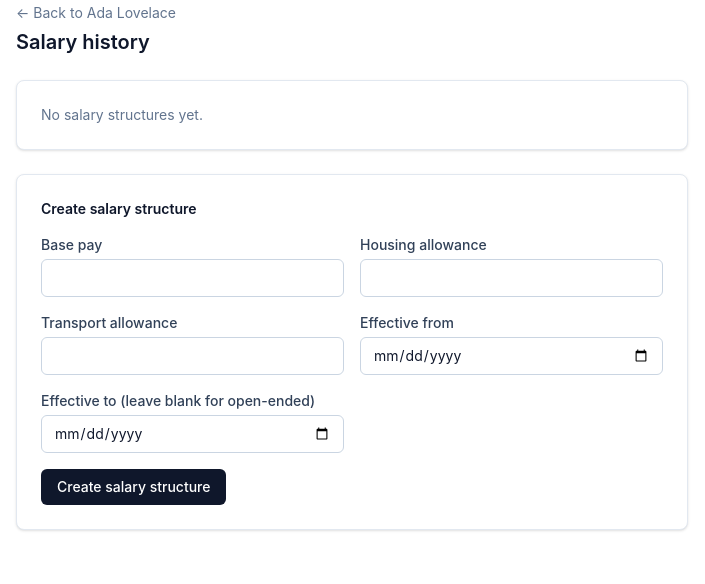
Scenario: SalaryHistoryPage (HR_ADMIN) › shows a 400 validation error returned by the API
Check: the text "No salary structures yet." is shown, box [41, 106, 203, 123]
Type "5000" into the number field labelled "Base pay" at [192, 278], box [41, 259, 344, 297]
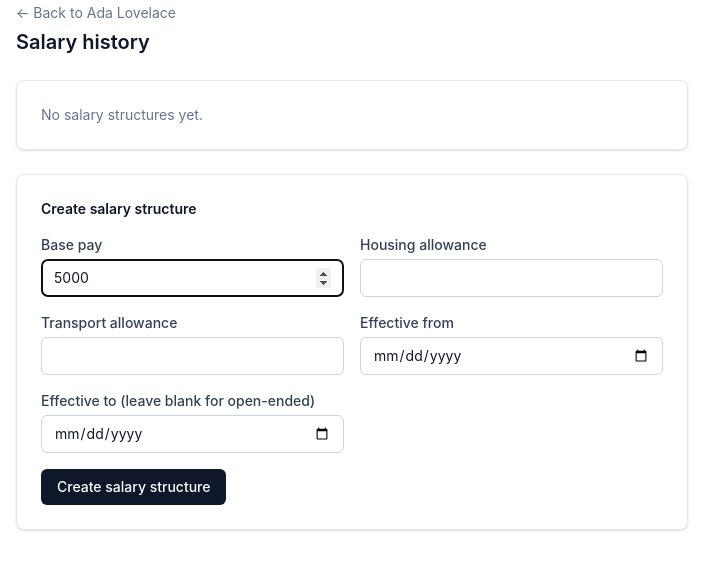
Type "2026-01-01" into the date field labelled "Effective from" at [512, 356], box [360, 337, 663, 375]
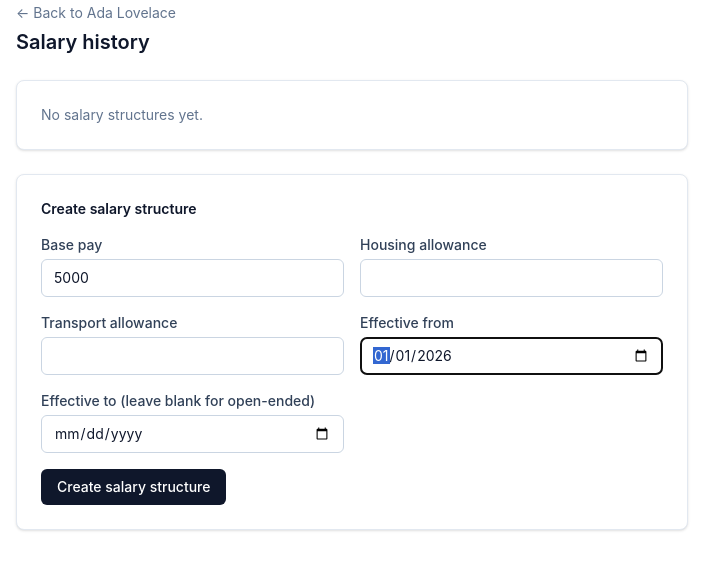
Click the button "Create salary structure" at [134, 487], box [41, 469, 226, 505]
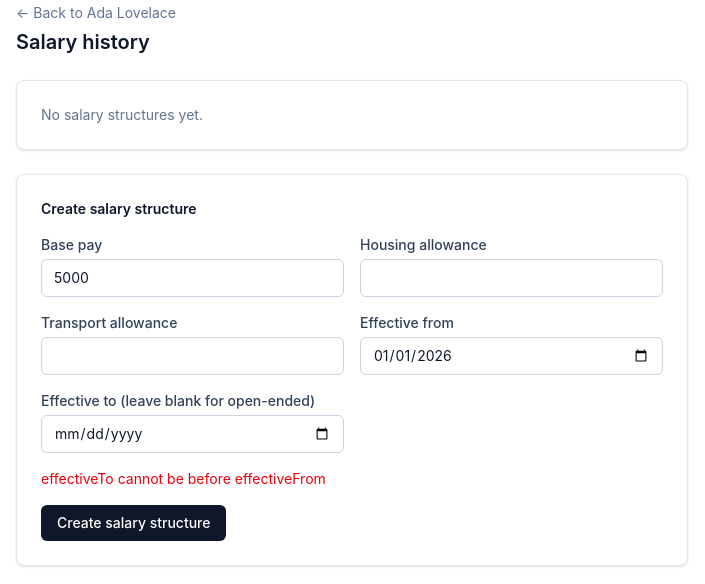
Check: the text "effectiveTo cannot be before effectiveFrom" is shown, box [41, 470, 326, 487]
